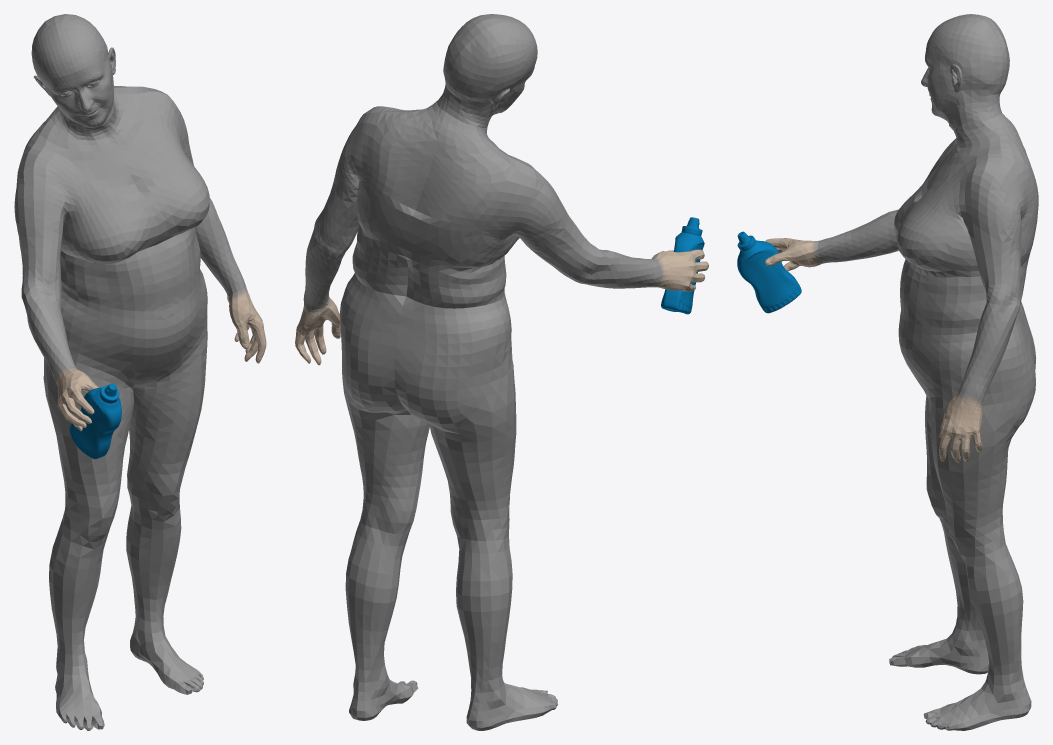
Rendered from ood_lift_bottle_full.glb.
3 views of the same model, side by side, from view 1: azimuth 30°, elevation 25°; view 2: azimuth 150°, elevation 25°; view 3: azimuth 270°, elevation 25° (orthographic). The views are drawn at different scales.
Visible parts, largest first — view 1: ood_lift_bottle_full.obj; view 2: ood_lift_bottle_full.obj; view 3: ood_lift_bottle_full.obj.
Boxes of the visible parts, x1,y1,x2,y2 form: ood_lift_bottle_full.obj: [14, 14, 266, 730]; ood_lift_bottle_full.obj: [295, 14, 708, 730]; ood_lift_bottle_full.obj: [737, 14, 1038, 730].
Size of the model in its own units: 0.7048 by 1.57 by 0.6547.
